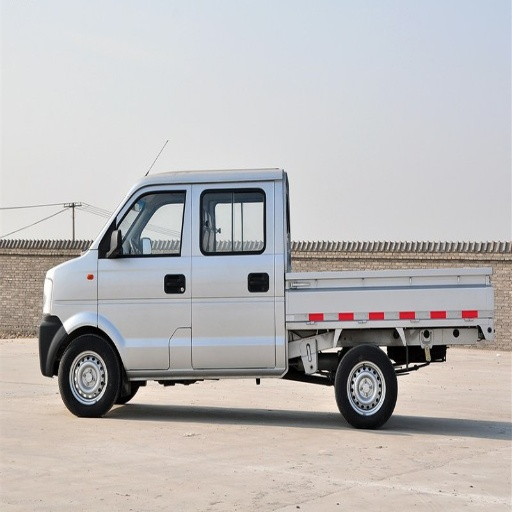trunk: (281, 281, 403, 372)
